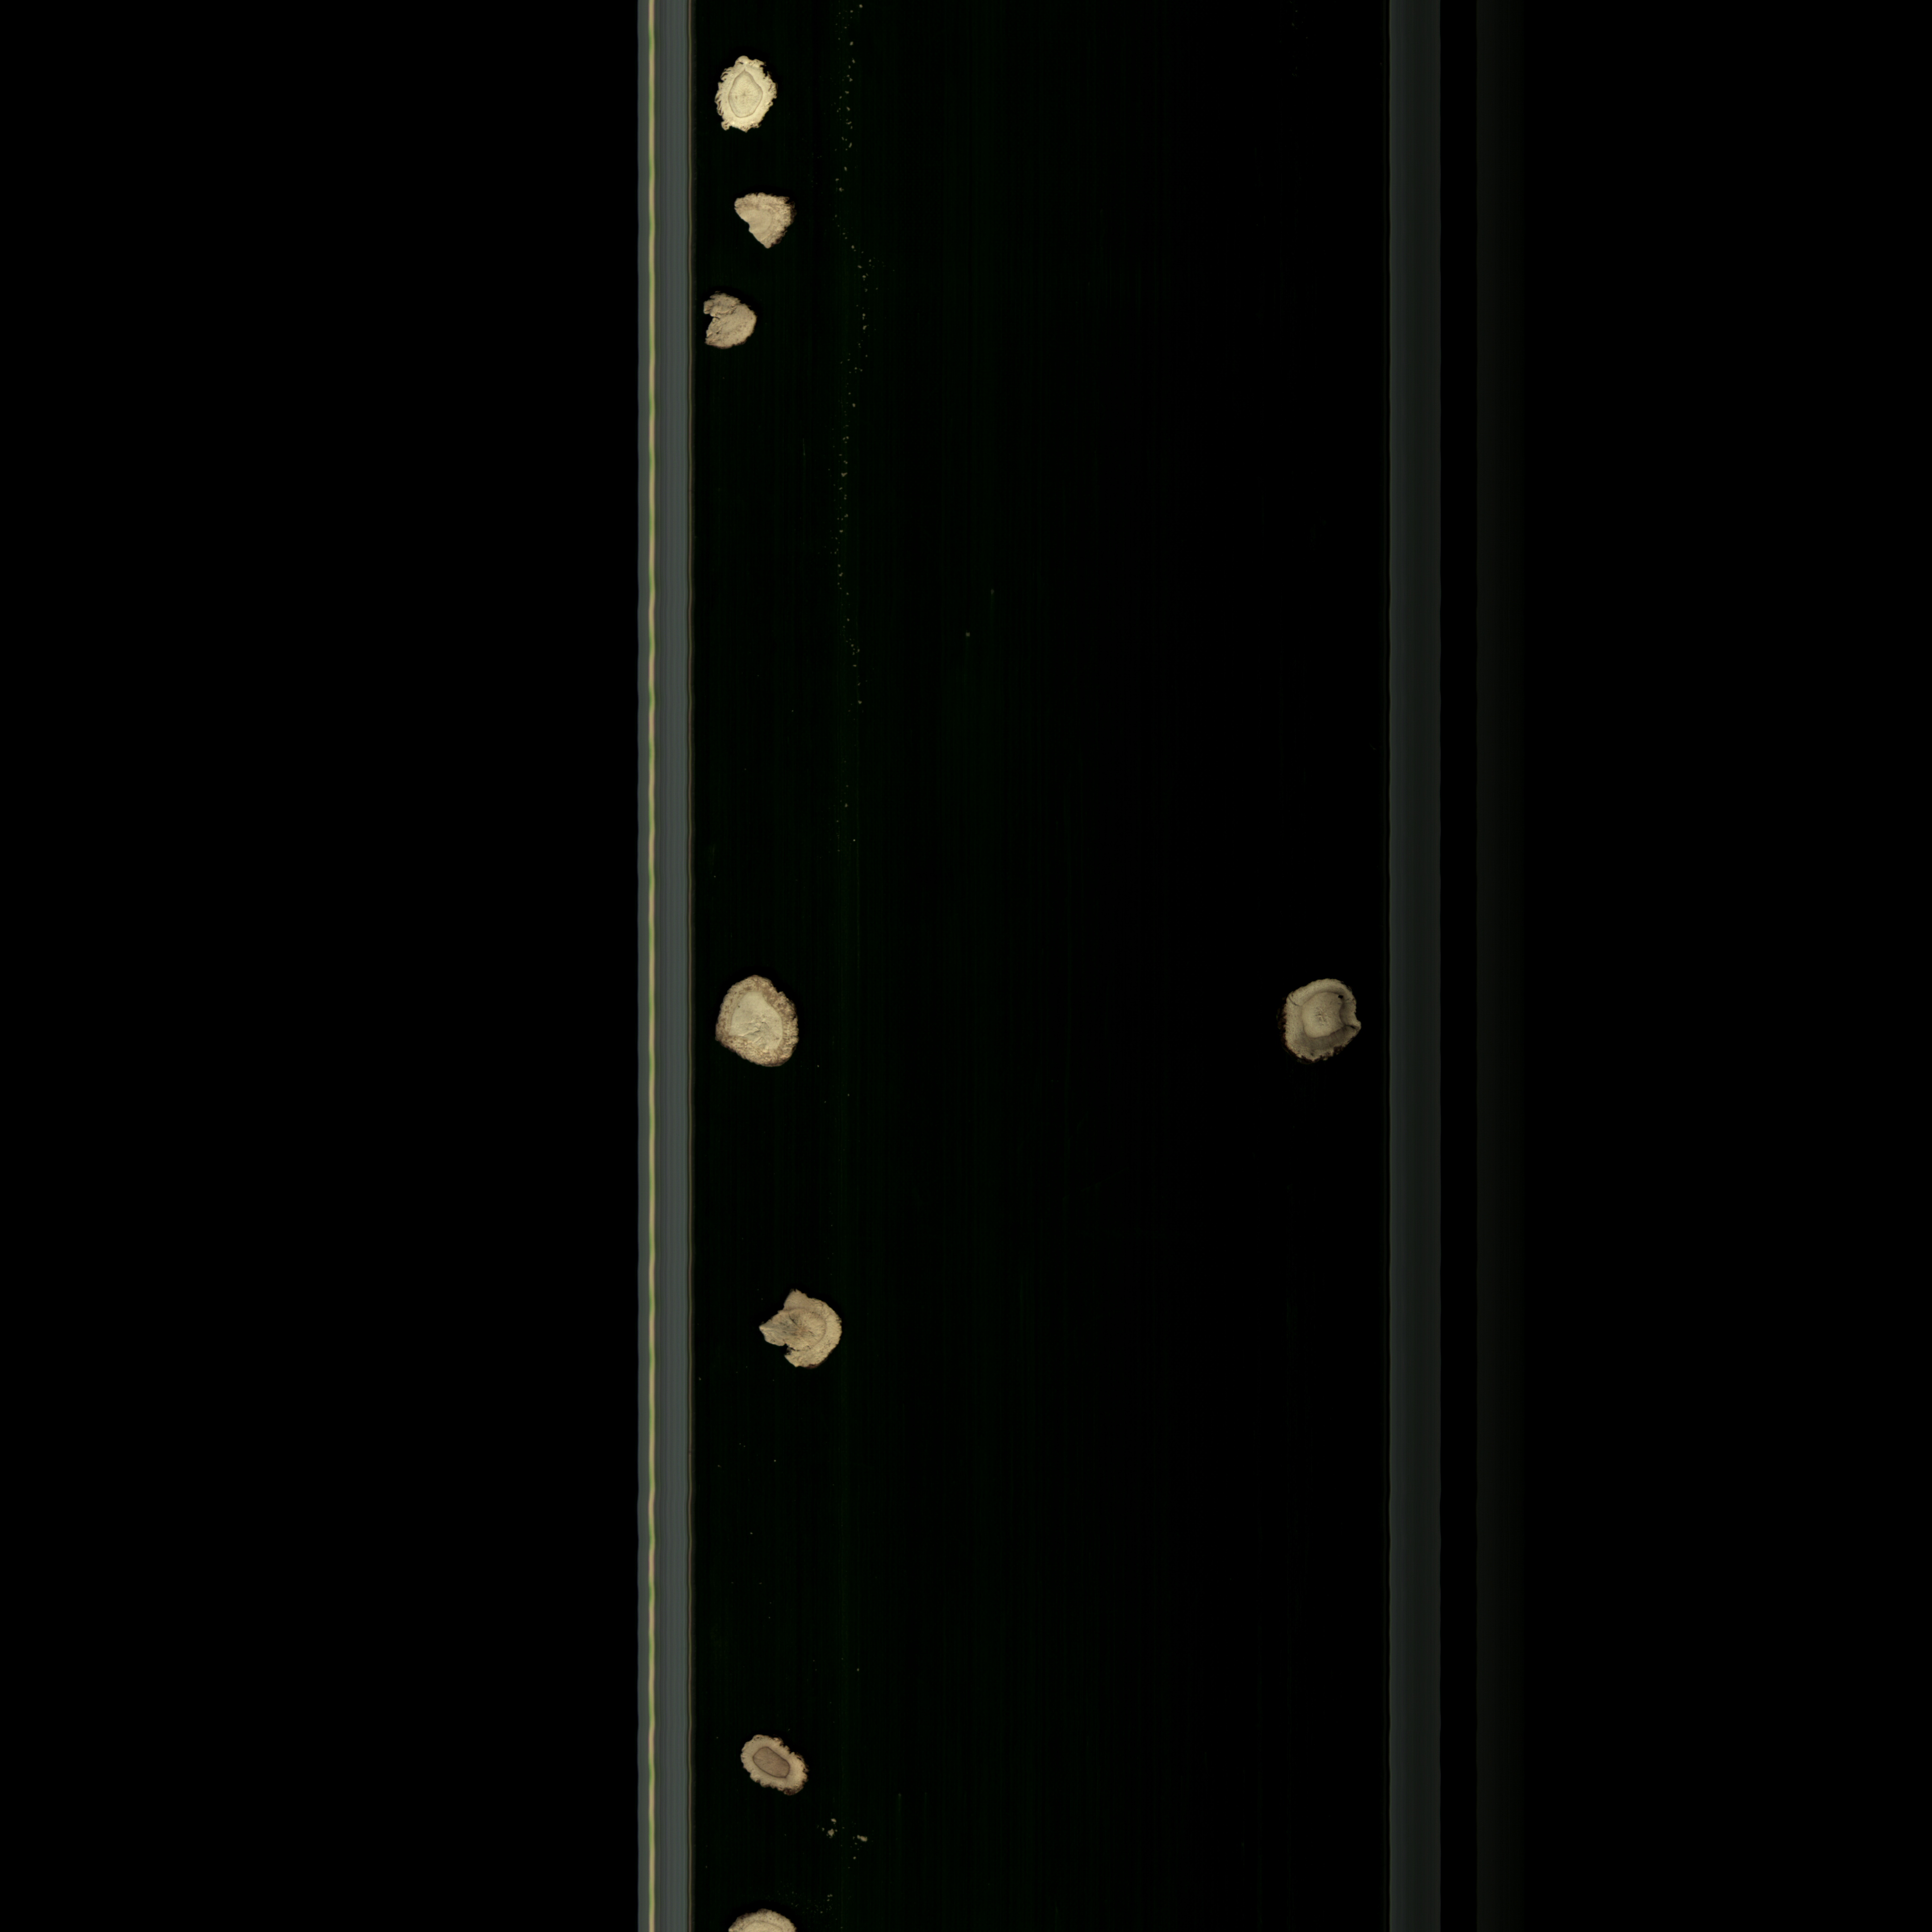debris: (745, 1277, 849, 1380), (697, 288, 770, 361), (729, 189, 800, 260)
distortion: (708, 51, 787, 147)
moldy: (706, 975, 812, 1077), (1276, 973, 1369, 1072), (731, 1721, 823, 1806)
